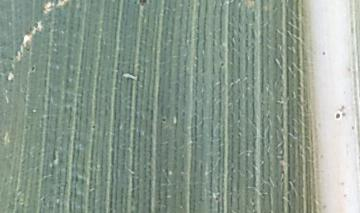tarspot: (333, 110, 341, 120), (138, 1, 148, 7), (29, 64, 36, 72), (90, 123, 97, 130), (160, 116, 167, 123), (319, 49, 327, 55), (219, 59, 225, 67), (24, 46, 31, 52)
